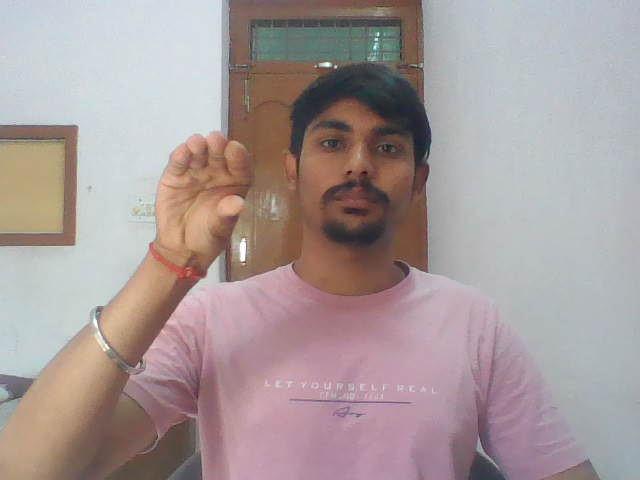No: (149, 118, 268, 242)
